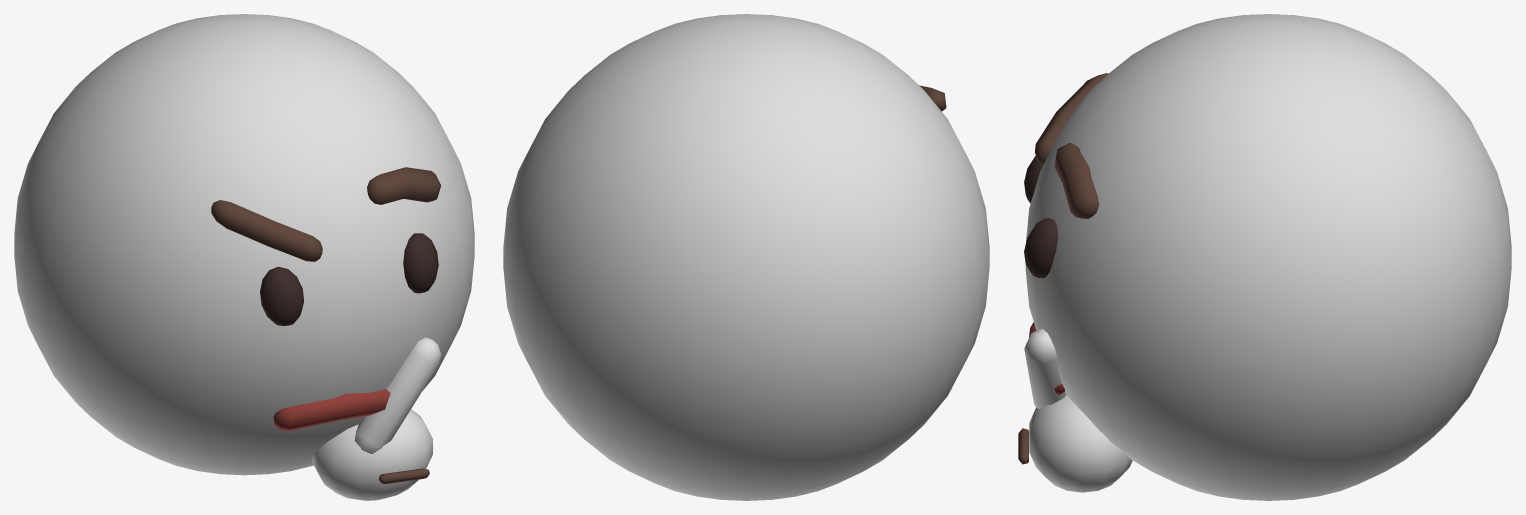
File: face_thinking.glb
3 renders of one model, left to right at view 1: azimuth 30°, elevation 25°; view 2: azimuth 150°, elevation 25°; view 3: azimuth 270°, elevation 25°, orthographic. The views are drawn at different scales.
Parts seen in each view (by area): view 1: face_thinking; view 2: face_thinking; view 3: face_thinking.
Part boxes in pixels (box(x1,y1,x2,y2)): face_thinking: box(14, 14, 474, 500); face_thinking: box(503, 14, 989, 500); face_thinking: box(1018, 14, 1511, 500).
Size of the model in its own units: 1 by 1 by 1.01.
